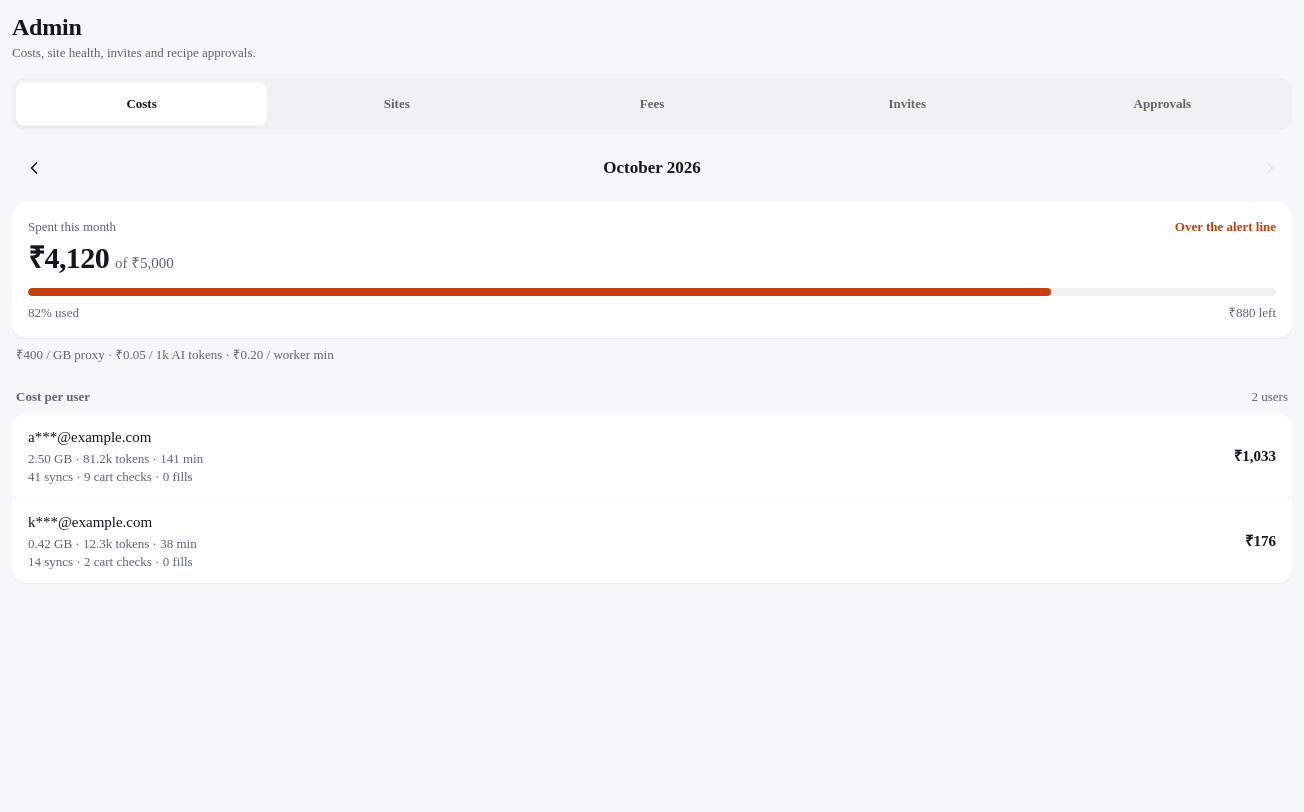
Scenario: admin view, review round 1 › a 403 that arrives after the first load swaps in the admin-only message
The image size is (1304, 812).
Expected: the list named "Cost per user" is shown, [12,414,1292,583]
What coordinates should you click on to do the following:
click the tab "Sites"
I would click on:
 (397, 104)
Its box is [271,82,522,126].
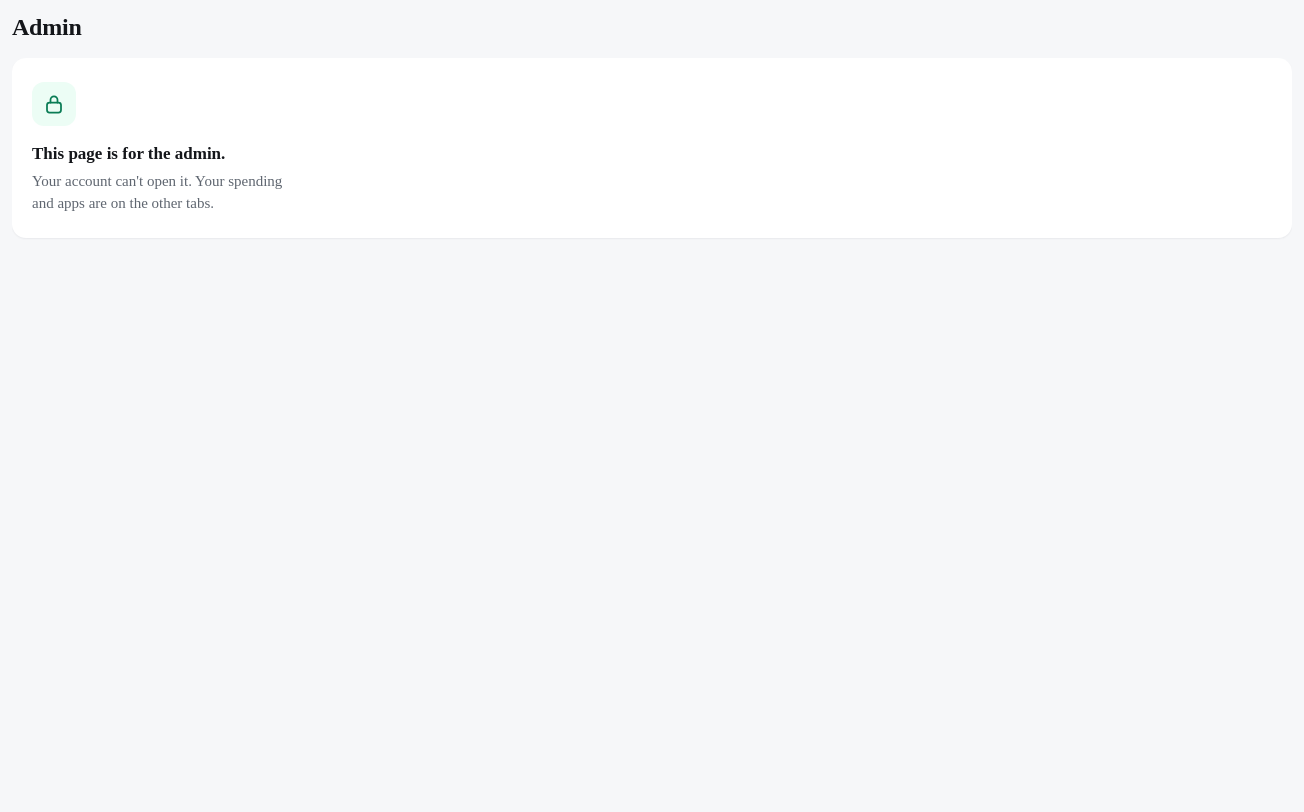
Result: the heading "This page is for the admin." is shown at [32,144,225,163]
